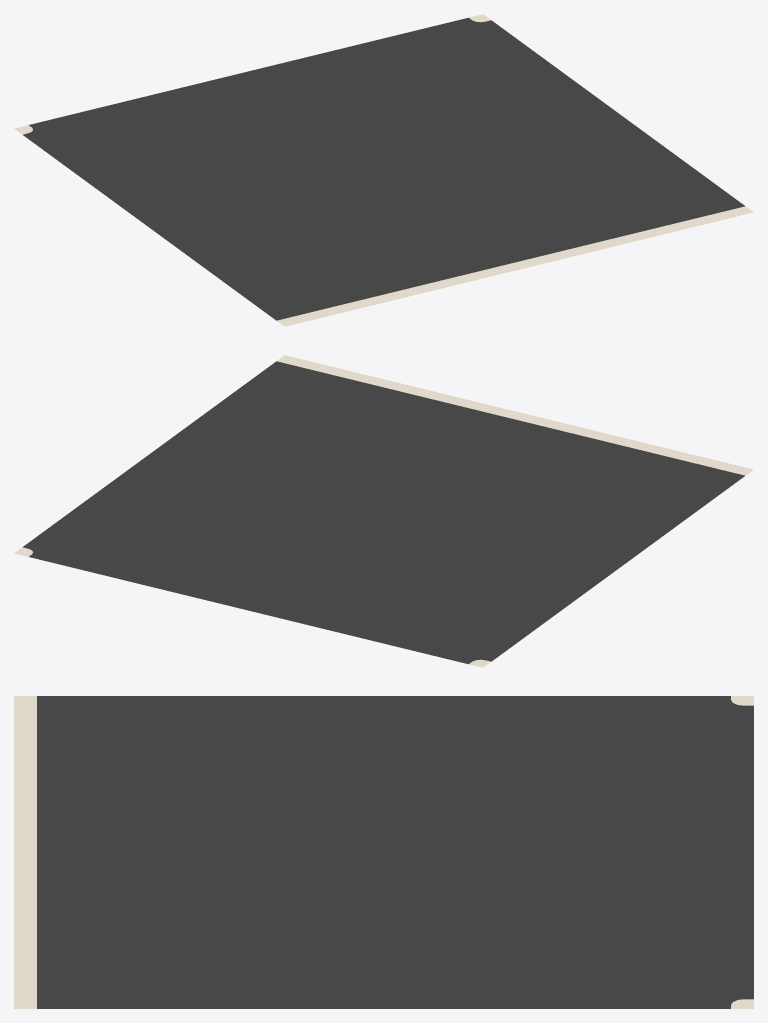
Rendered from Map-Road-T.fbx.
3 views of the same model, one above another, from view 1: azimuth 30°, elevation 25°; view 2: azimuth 150°, elevation 25°; view 3: azimuth 270°, elevation 25° (orthographic). The views are drawn at different scales.
Visible parts, largest first — view 1: Map-Road-T; view 2: Map-Road-T; view 3: Map-Road-T.
Part boxes in pixels (x1,y1,x2,y2): Map-Road-T: (14, 14, 753, 326); Map-Road-T: (14, 355, 753, 667); Map-Road-T: (14, 696, 753, 1008).
Size of the model in its own units: 1.2 by 1.39e-15 by 1.2.
